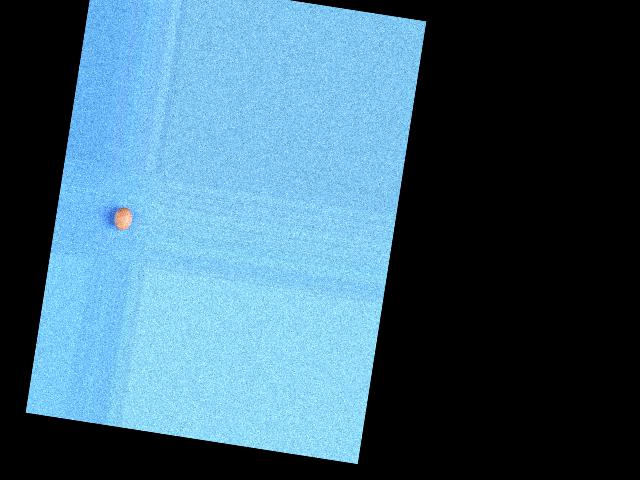egg: (111, 206, 133, 231)
